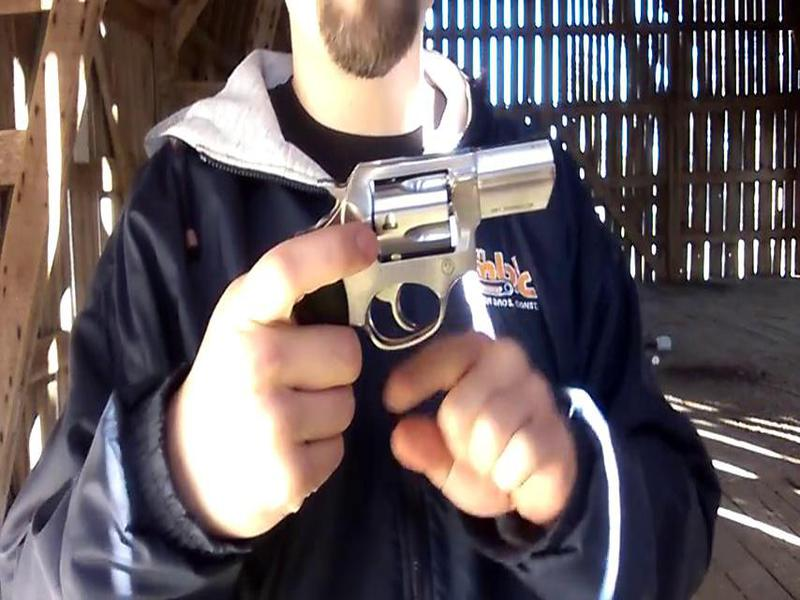Revolver: (199, 127, 570, 380)
